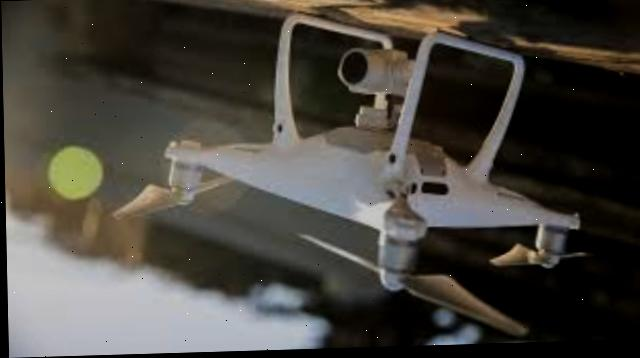drone: (102, 0, 600, 356)
